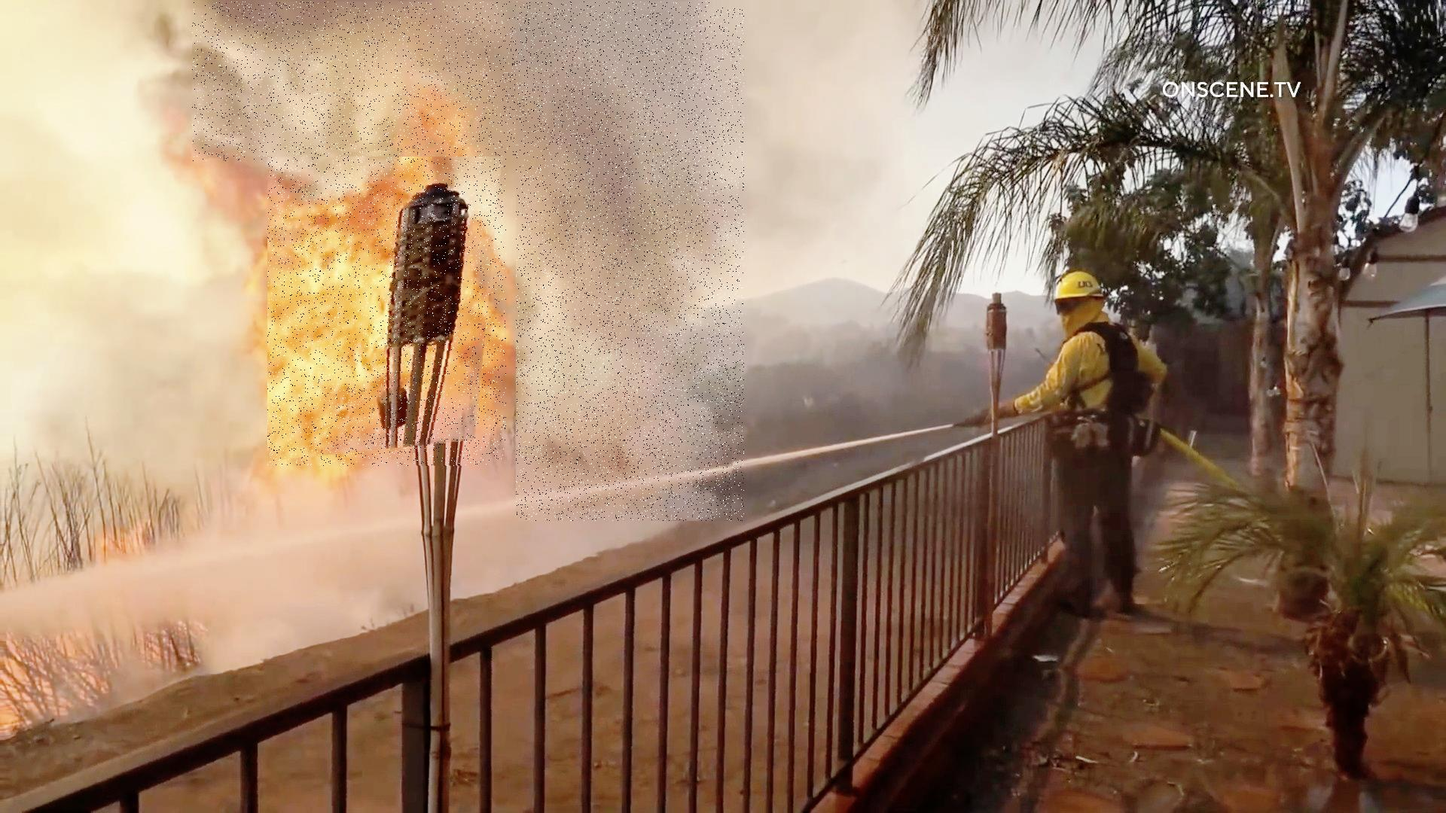fire: (268, 159, 507, 467)
smoke: (516, 8, 745, 521), (192, 2, 710, 162)
